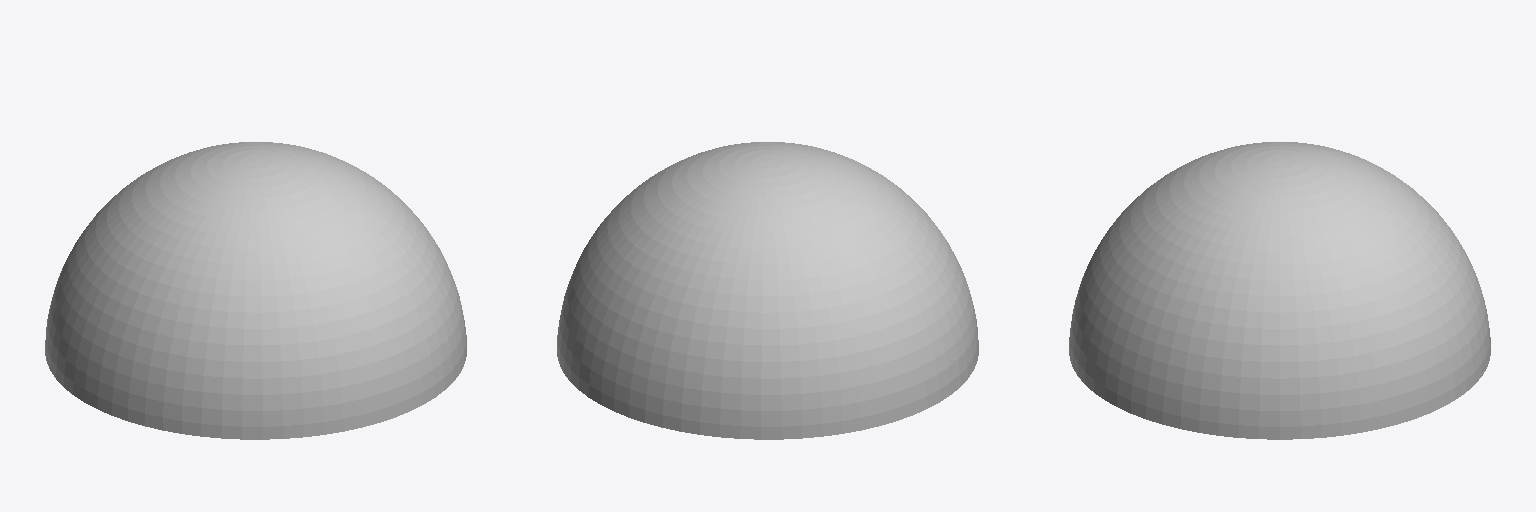
File: halfsphere_h_8cm.obj
3 renders of one model, left to right at view 1: azimuth 30°, elevation 25°; view 2: azimuth 150°, elevation 25°; view 3: azimuth 270°, elevation 25°, orthographic.
Parts seen in each view (by area): view 1: Sphere_Sphere.005; view 2: Sphere_Sphere.005; view 3: Sphere_Sphere.005.
Boxes of the visible parts, x1=… form: Sphere_Sphere.005: x1=45, y1=142, x2=466, y2=439; Sphere_Sphere.005: x1=557, y1=142, x2=978, y2=439; Sphere_Sphere.005: x1=1069, y1=142, x2=1490, y2=439.
Bounding box in the file's own units: 0.1599 × 0.079 × 0.1599.